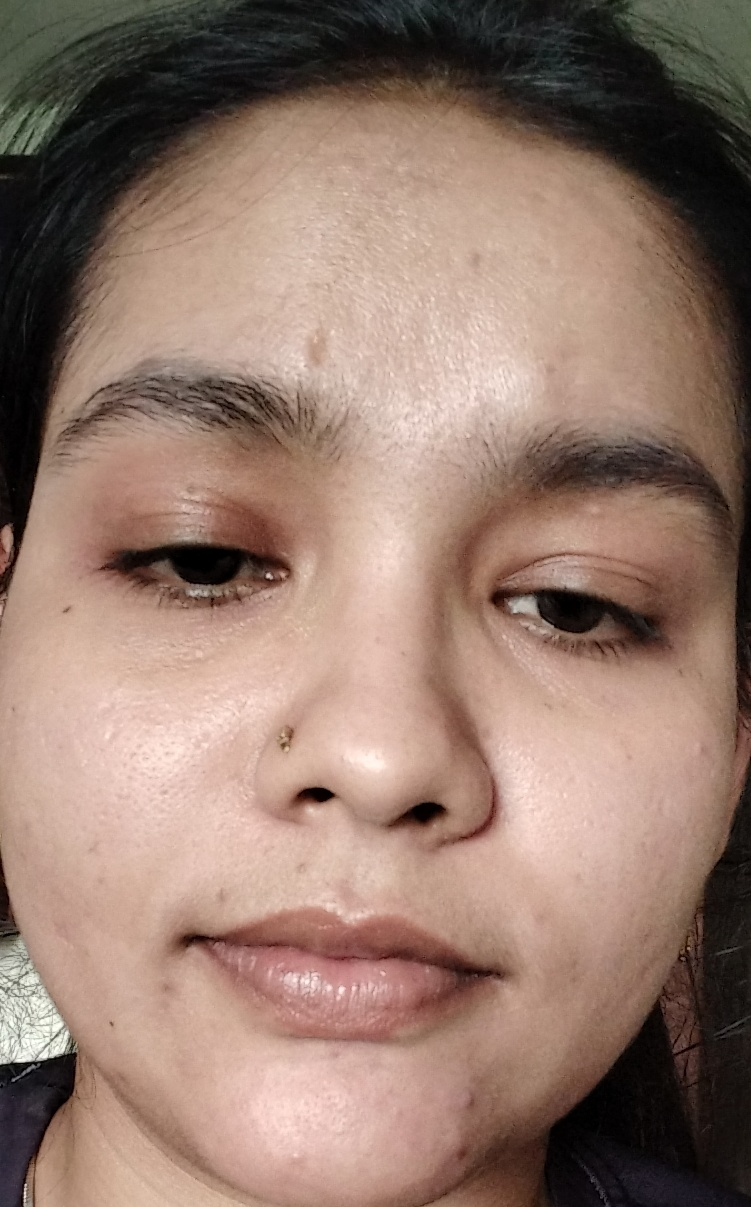papule: (434, 1123, 478, 1179)
